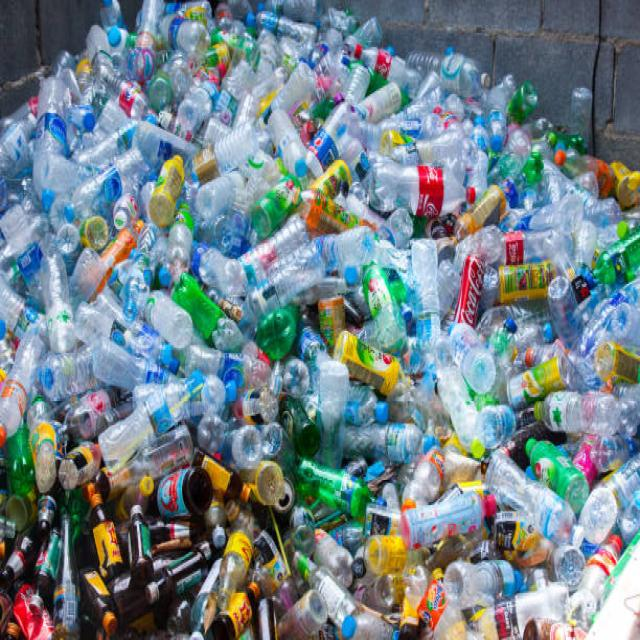plastic: (43, 50, 587, 436)
